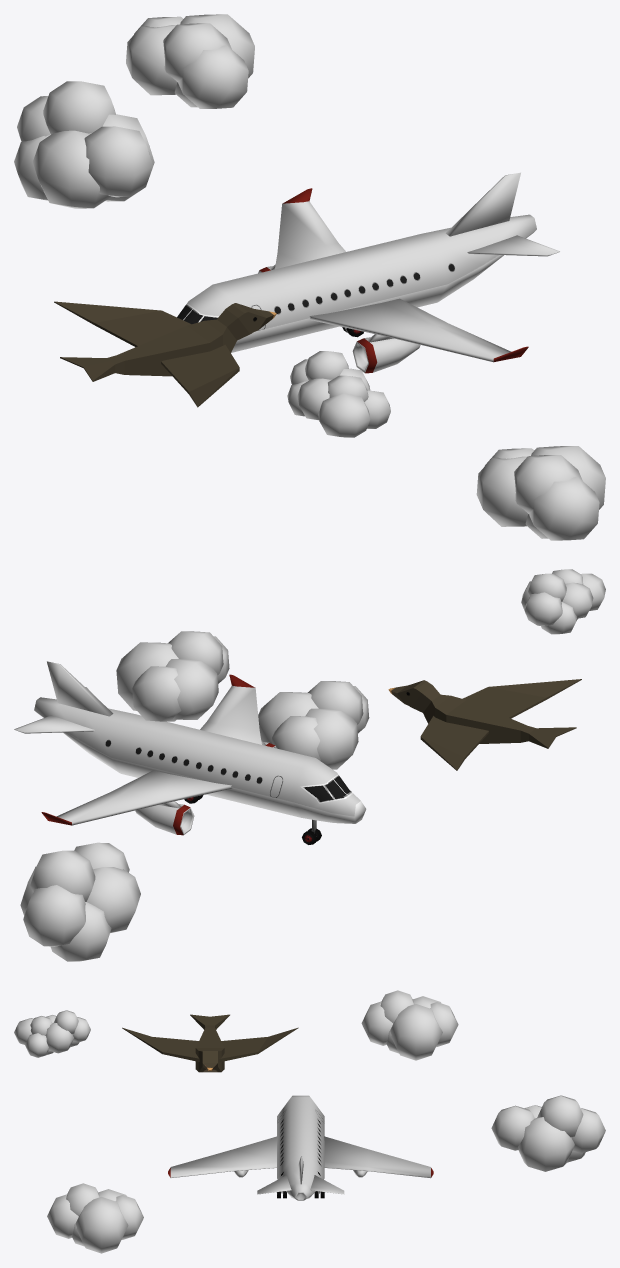
File: AwanBurung.fbx
3 renders of one model, top to bottom at view 1: azimuth 30°, elevation 25°; view 2: azimuth 150°, elevation 25°; view 3: azimuth 270°, elevation 25°, orthographic. The views are drawn at different scales.
Parts seen in each view (by area): view 1: bodyPesawat.001, Cube.001, Cube.003, Cube, Cube.004, Cube.002; view 2: bodyPesawat.001, Cube.001, Cube.003, Cube.004, Cube, Cube.002; view 3: bodyPesawat.001, Cube.001, Cube, Cube.004, Cube.003, Cube.002.
Part boxes in pixels (box(x1,y1,x2,y2)): bodyPesawat.001: box(177, 172, 559, 373); Cube.001: box(14, 81, 154, 208); Cube.003: box(54, 301, 276, 407); Cube: box(476, 446, 605, 540); Cube.004: box(126, 14, 254, 108); Cube.002: box(287, 351, 390, 437); bodyPesawat.001: box(14, 661, 366, 844); Cube.001: box(20, 842, 140, 961); Cube.003: box(388, 679, 581, 770); Cube.004: box(116, 631, 229, 721); Cube: box(258, 681, 369, 769); Cube.002: box(521, 569, 605, 634); bodyPesawat.001: box(168, 1095, 433, 1200); Cube.001: box(491, 1095, 605, 1171); Cube: box(47, 1183, 143, 1253); Cube.004: box(361, 990, 458, 1060); Cube.003: box(122, 1014, 298, 1072); Cube.002: box(14, 1010, 90, 1057).
Bounding box in the file's own units: 2026 × 1300 × 3191.
3 materials, 2 textured.
